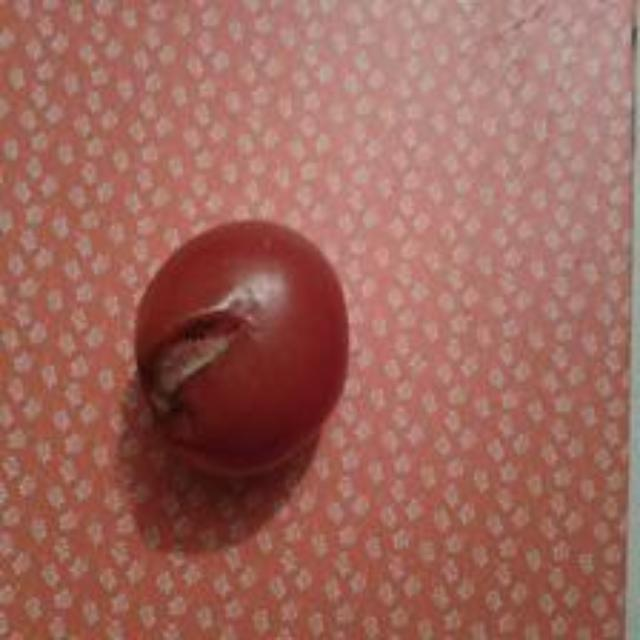defect: (129, 213, 352, 480)
